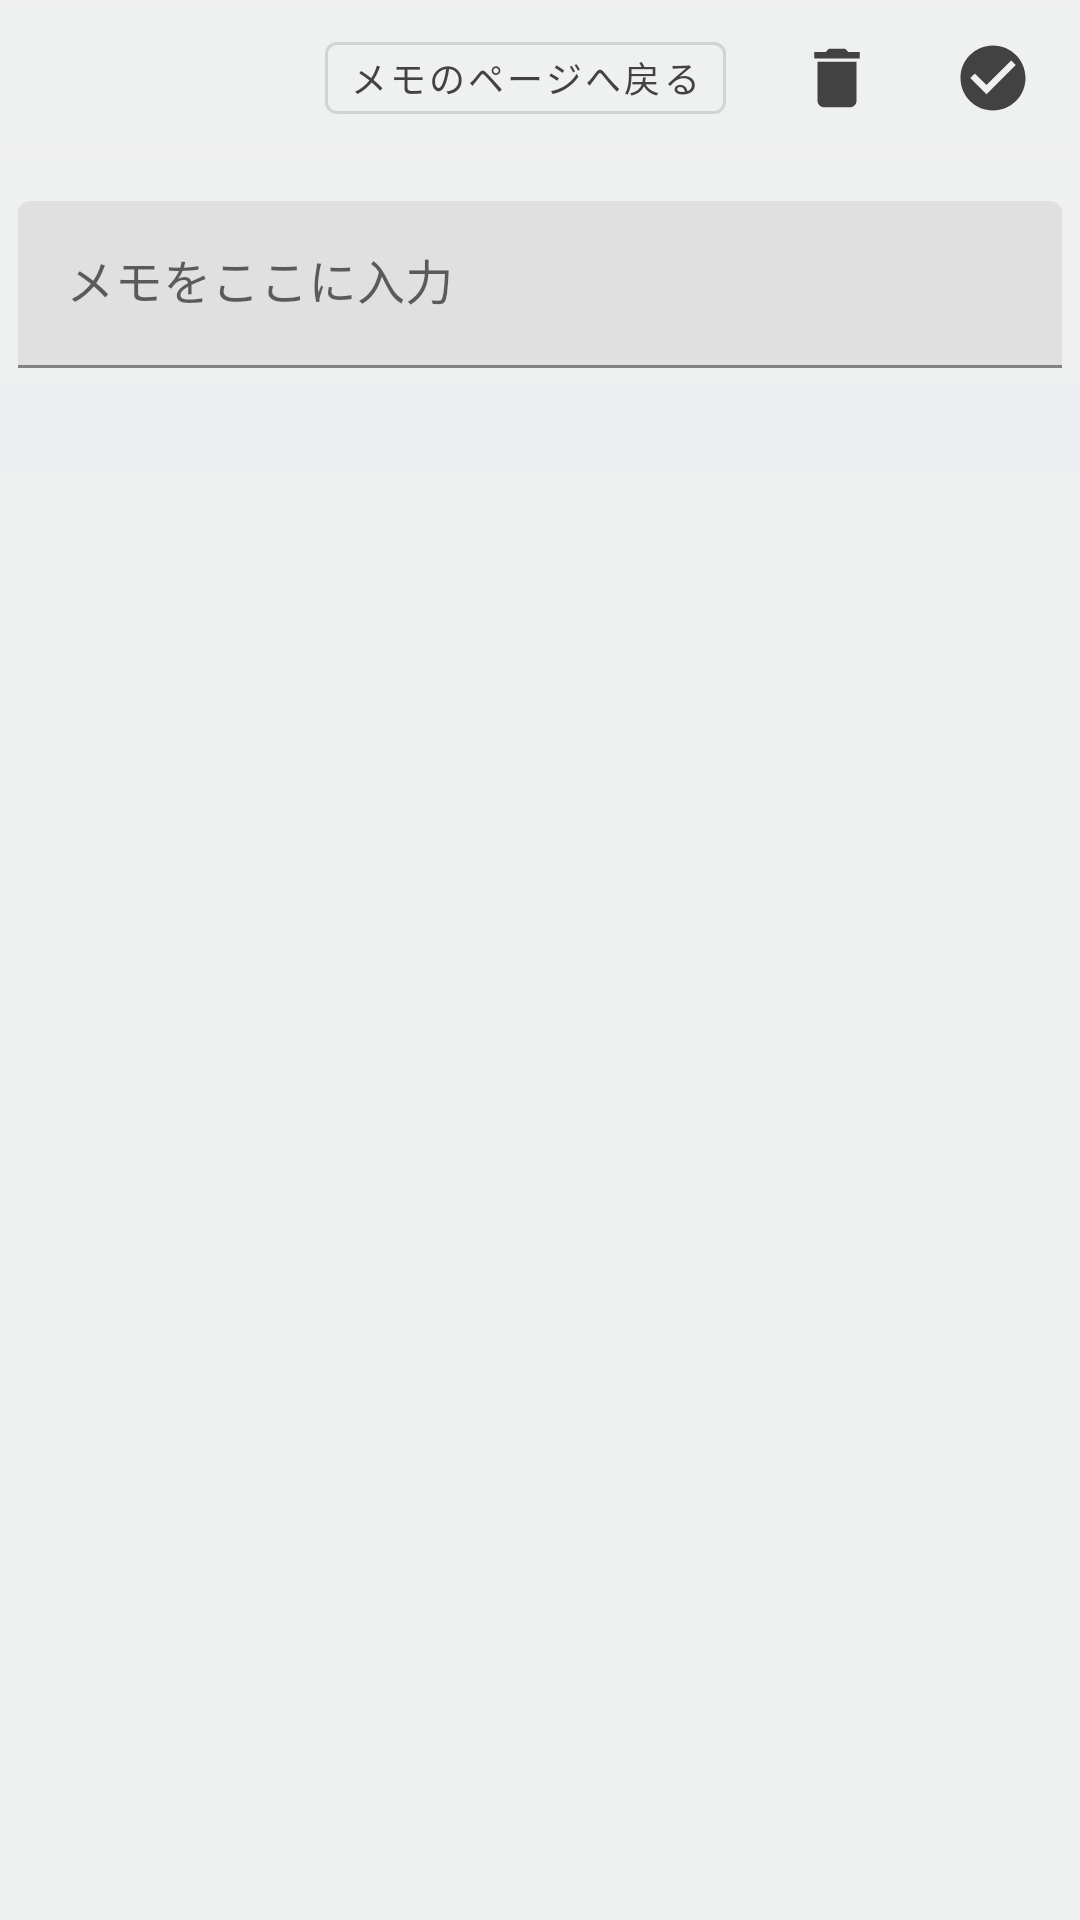

Icon bounding boxes for this 1080w x 1920h phone screenshot, format region(x1, y1, x2, y2):
check circle: region(960, 45, 1026, 111)
delete: region(814, 48, 860, 108)
